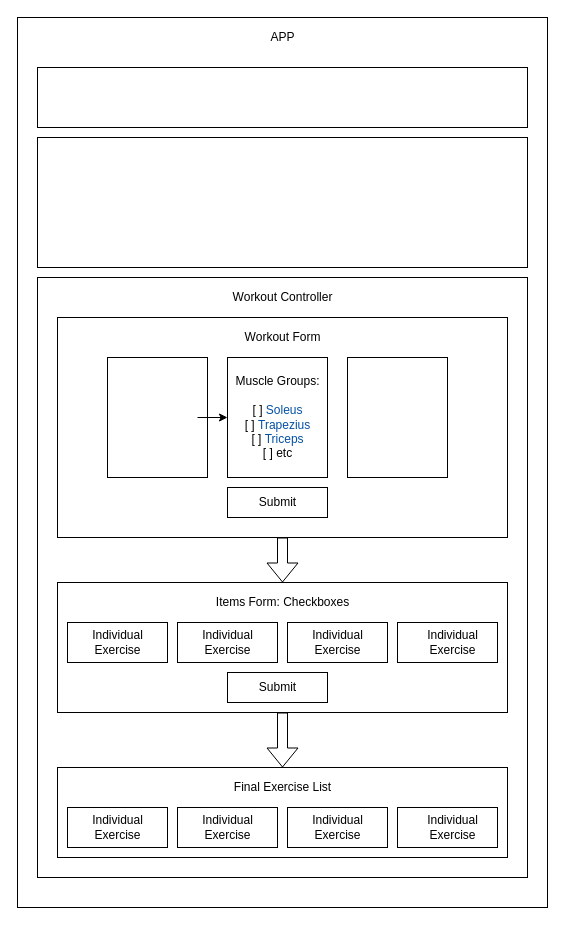
Image size: 565x925. Some labels were removed from this diagram. The box of each missing label's shape, as (x1, y1, x2, y2) in pixels:
Equipment: [ ] Bodyweight [ ] dumbells [ ] kettlebell [ ] etc: (346, 356, 448, 478)
HEADER: (36, 66, 528, 128)
Main Image: (36, 136, 528, 268)
Target Body Part(s): [ ] Legs [ ] glutes [ ] arms [ ] etc: (106, 356, 208, 478)
